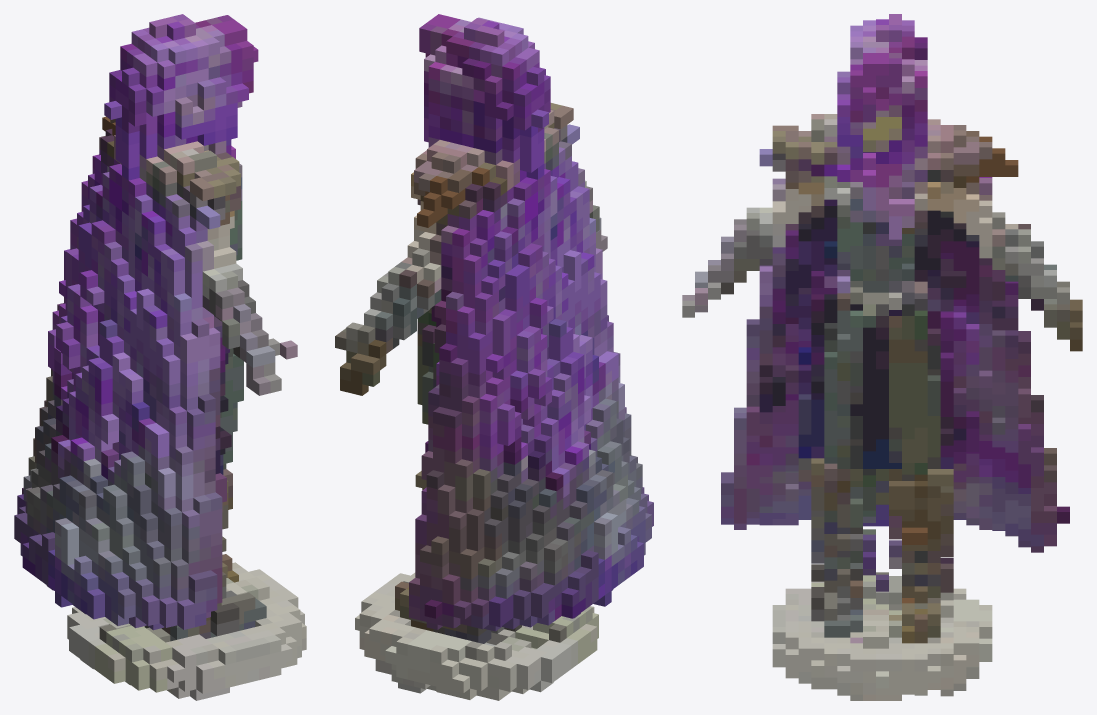
File: bot.glb
3 views of the same model, side by side, from view 1: azimuth 30°, elevation 25°; view 2: azimuth 150°, elevation 25°; view 3: azimuth 270°, elevation 25° (orthographic).
Bounding box in the file's own units: 0.6891 × 1.84 × 1.02.
